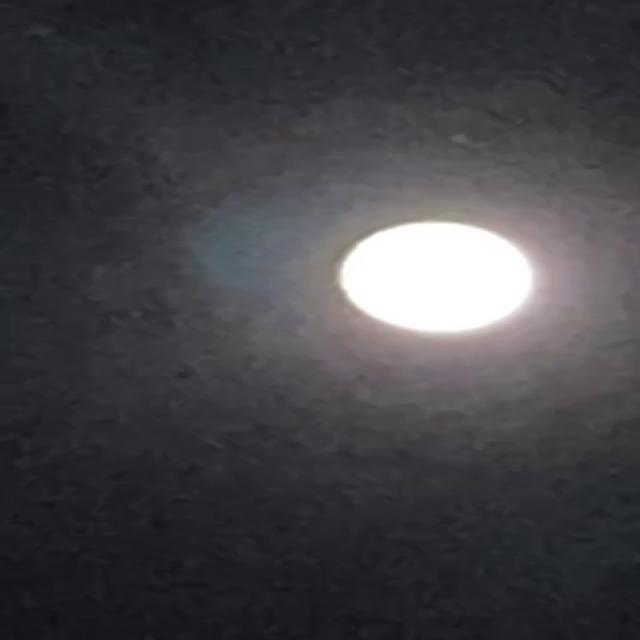moon: (322, 213, 548, 334)
